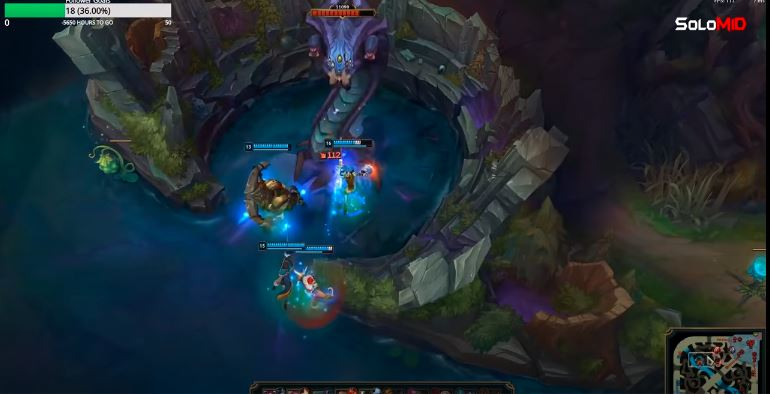bar: (279, 243, 335, 258), (323, 136, 377, 151), (242, 140, 294, 155), (258, 239, 308, 254)
